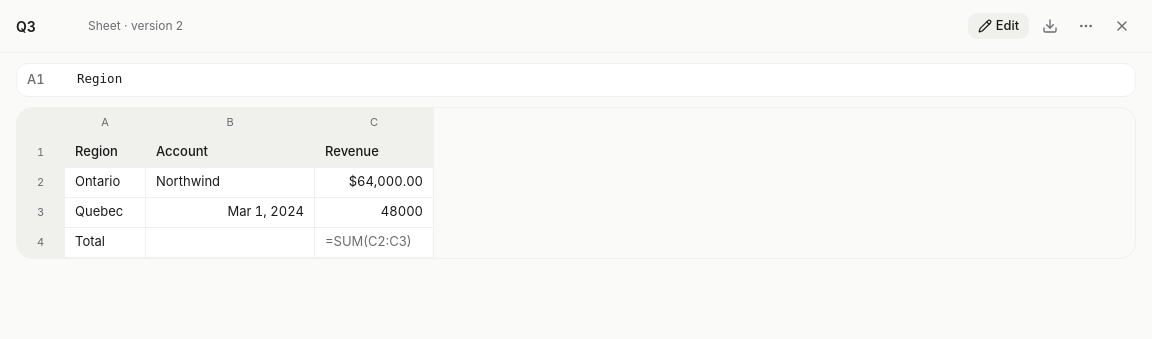
Test: shows numbers and dates through their format, but the formula bar and editor keep the raw value
This screenshot has width=1152, height=339.
Check: the cell "Mar 1, 2024" is shown, box [146,198,315,228]
Press the mouse on the cell "$64,000.00": (374, 182) [315,168,434,198]
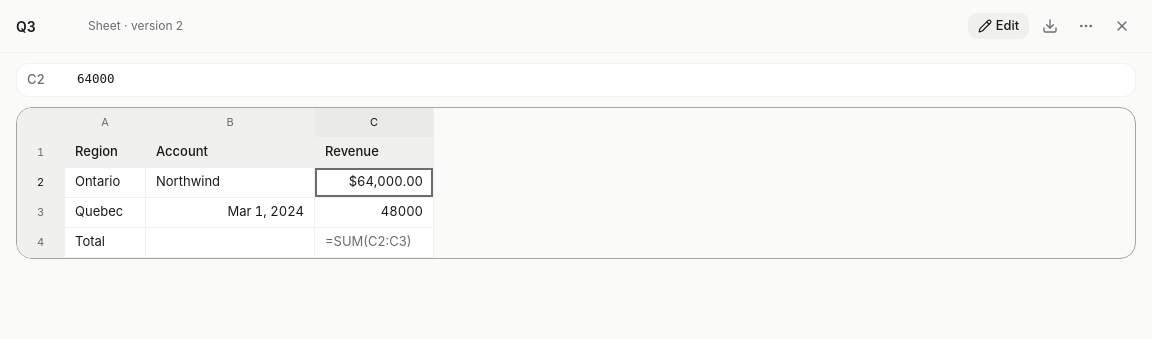
Check: the text with test id "formula-bar" reads "64000", box [77,71,115,86]
Press the mouse on the cell "Mar 1, 2024": (230, 212) [146,198,315,228]
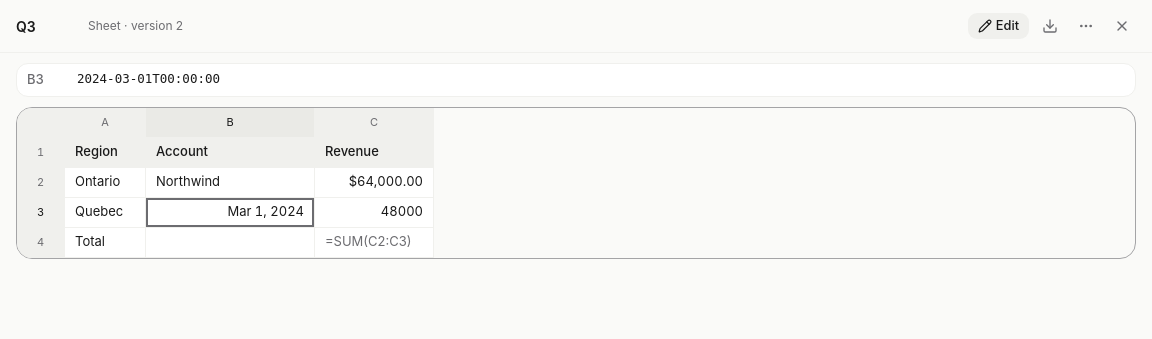
Check: the text with test id "formula-bar" reads "2024-03-01T00:00:00", box [77,71,220,86]
Click the button with test id "editor-edit": (998, 26) [967,12,1030,40]
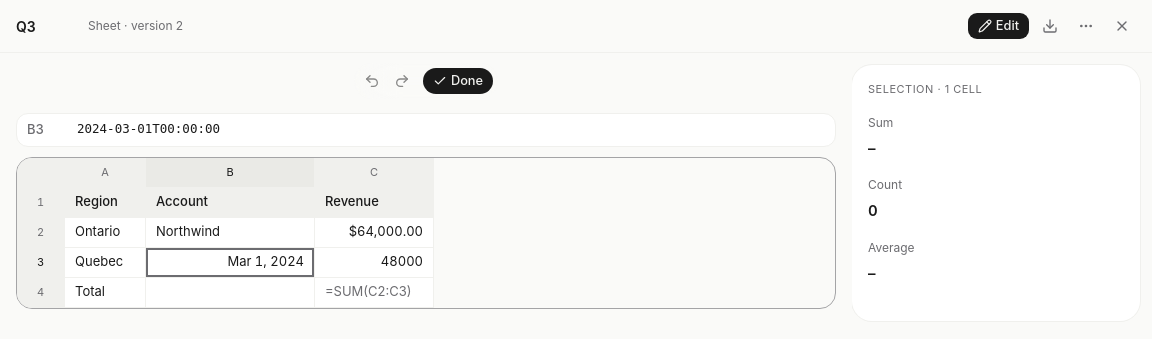
Press the mouse on the cell "$64,000.00": (374, 232) [315,218,434,248]
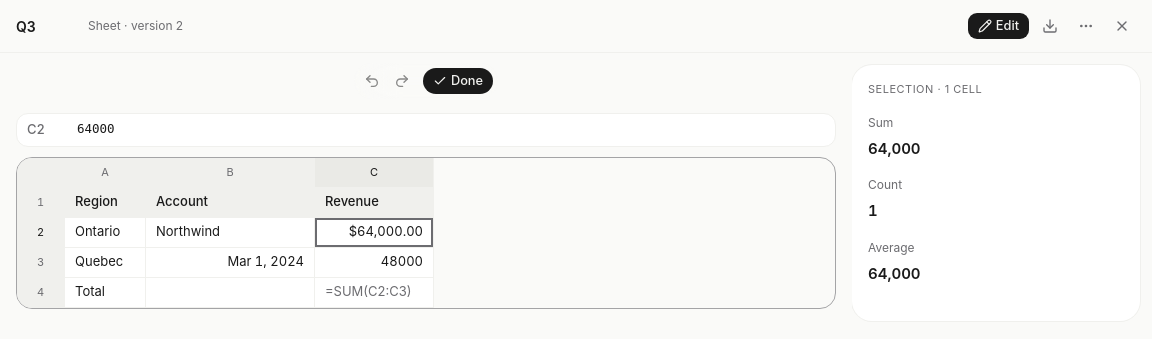
Press Enter in the table, box [16,156,836,308]
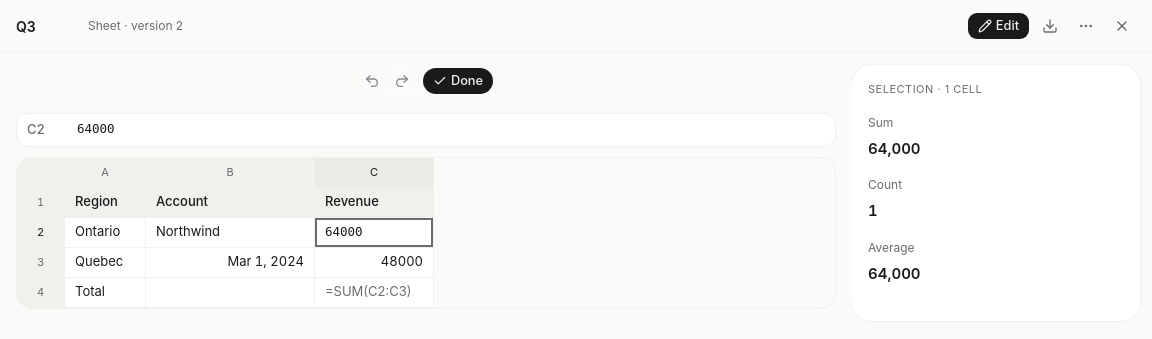
Check: the field named "Cell" holds "64000", box [315,218,433,246]
